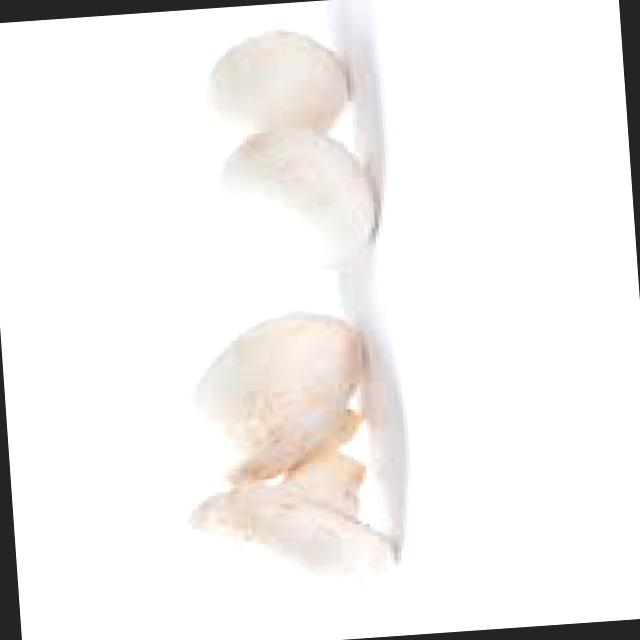Agaricus bisporus: (174, 447, 398, 628), (183, 304, 384, 484), (210, 124, 390, 278), (189, 19, 358, 155)
